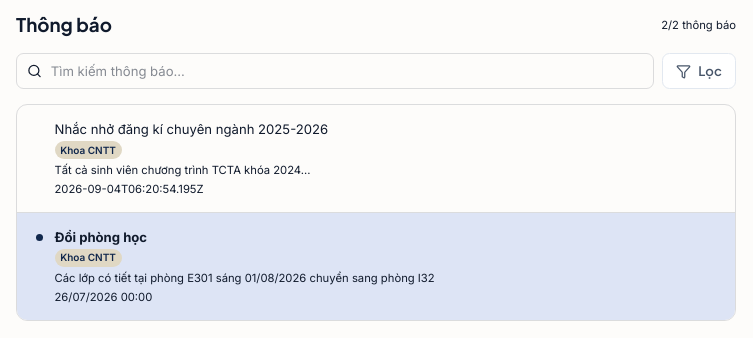
Function 12: View Notifications (Frontend Coverage) › [TC_2.13_08]: Verify text-based search functionality
Expected: the text "2/2 thông báo" is shown, [661,18,736,33]
Type "đổi phòng" into the field with placeholder "Tìm kiếm thông báo...".
click(335, 71); type("đổi phòng")  # box [16,53,654,89]
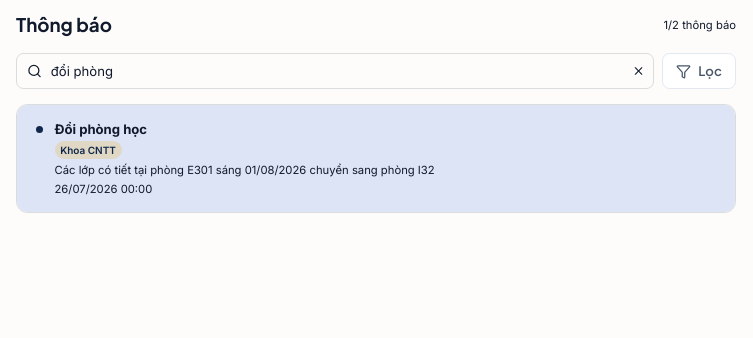
Expected: the text "Đổi phòng học" is shown, [54,121,147,137]
Expected: the text "Nhắc nhở đăng kí chuyên ngành 2025-2026" is gone
